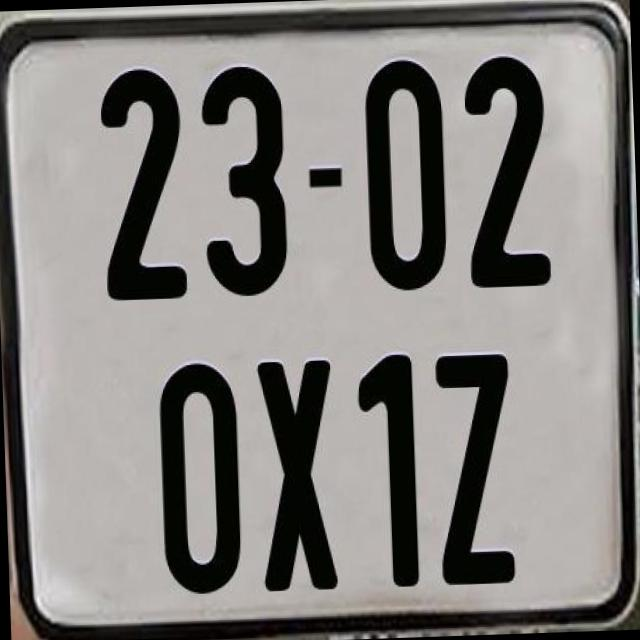0: (158, 360, 250, 602), (364, 53, 449, 296)
1: (353, 352, 419, 590)
2: (98, 65, 192, 302), (458, 49, 548, 284)
3: (196, 62, 294, 297)
X: (252, 356, 334, 592)
Z: (433, 350, 518, 588)
